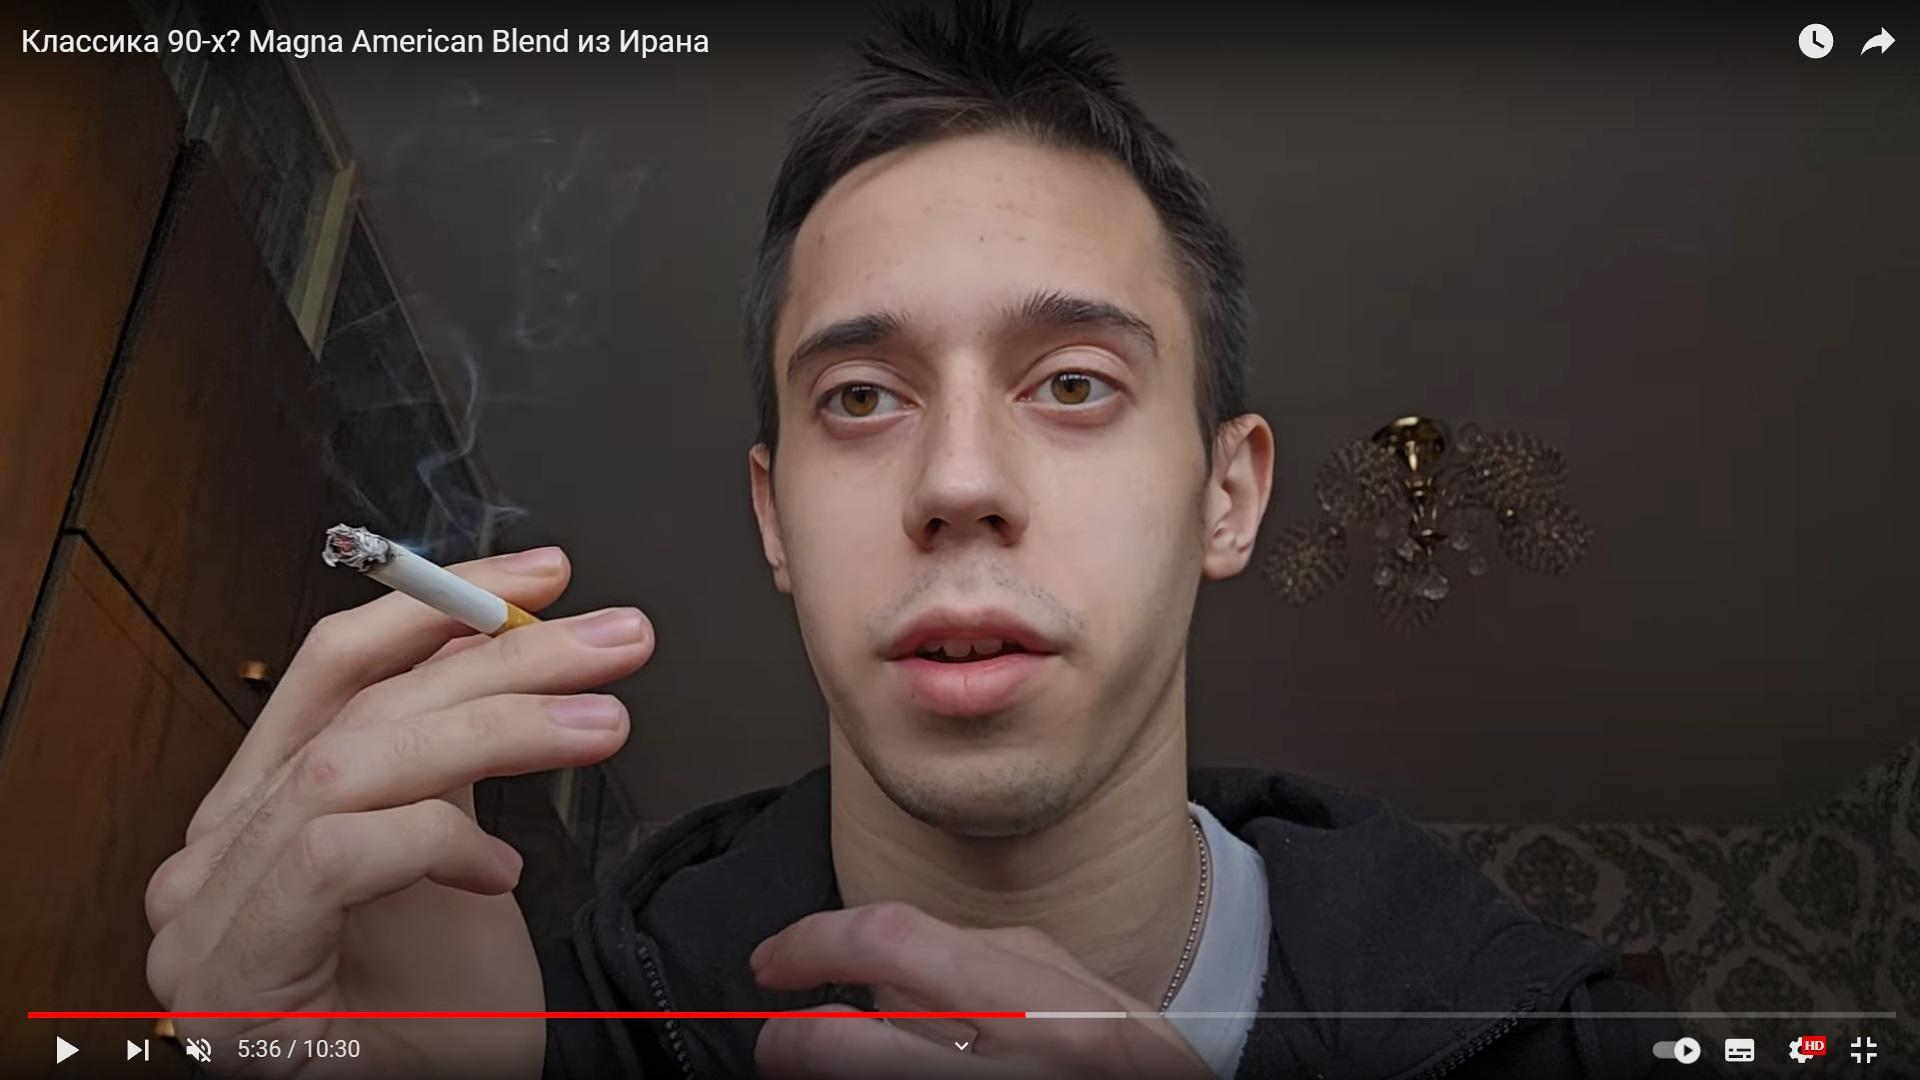cigarette: (323, 524, 545, 637)
